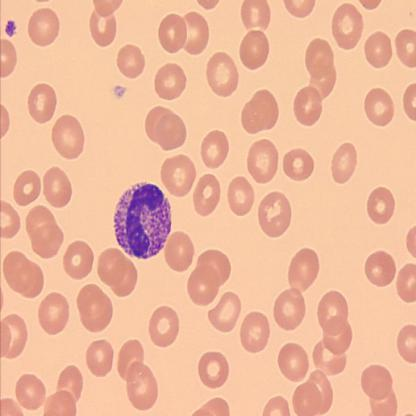Band Neutrophil: (112, 178, 174, 260)
